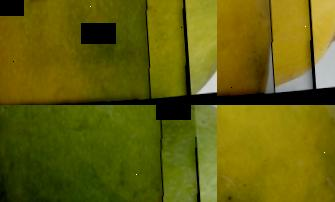PartiallyRipe: (0, 0, 191, 105), (217, 105, 335, 202)
Ripe: (217, 0, 317, 105)
Unripe: (0, 105, 204, 202)
